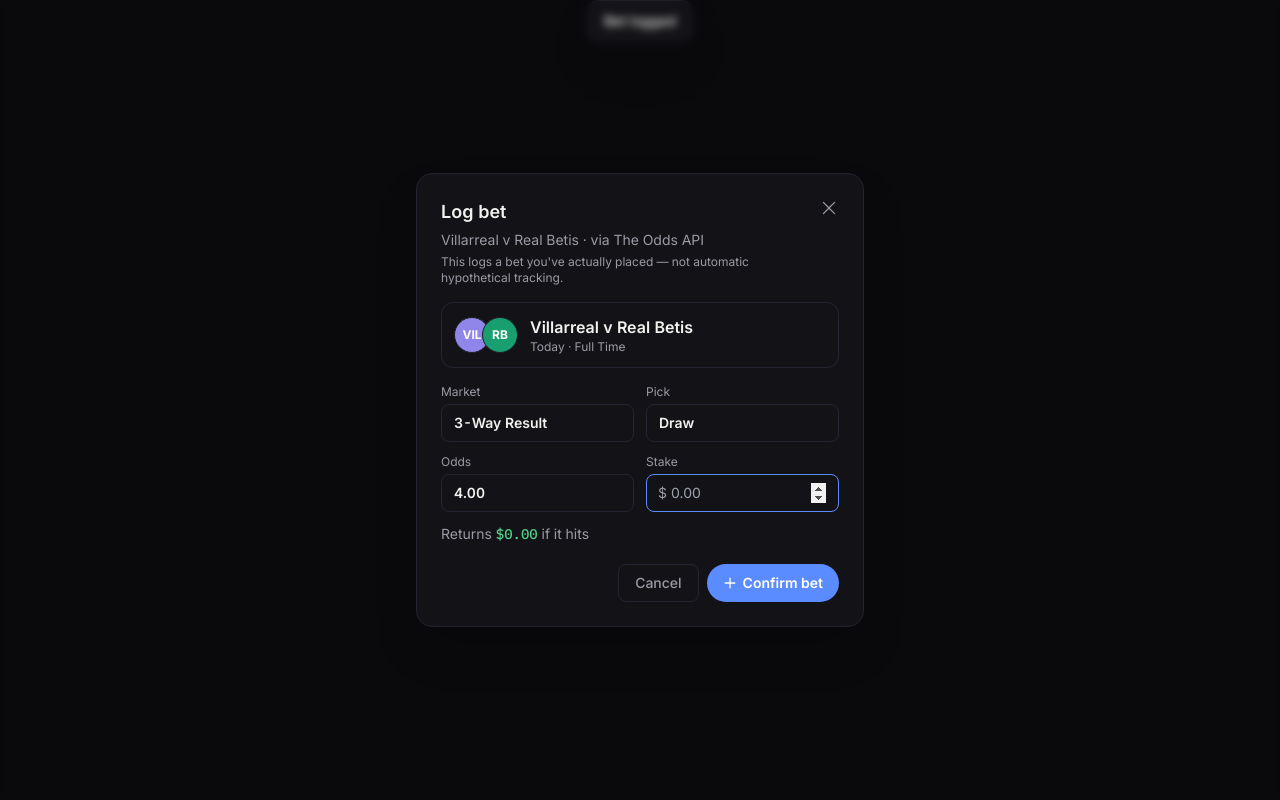
LogBetModal › locked mode: a stake-only validation error, not the editable-mode 'fill in a pick' message
This screenshot has width=1280, height=800.
Click the button "Confirm bet" at {"x": 773, "y": 583}, box top-left (707, 564), bottom-right (839, 602)
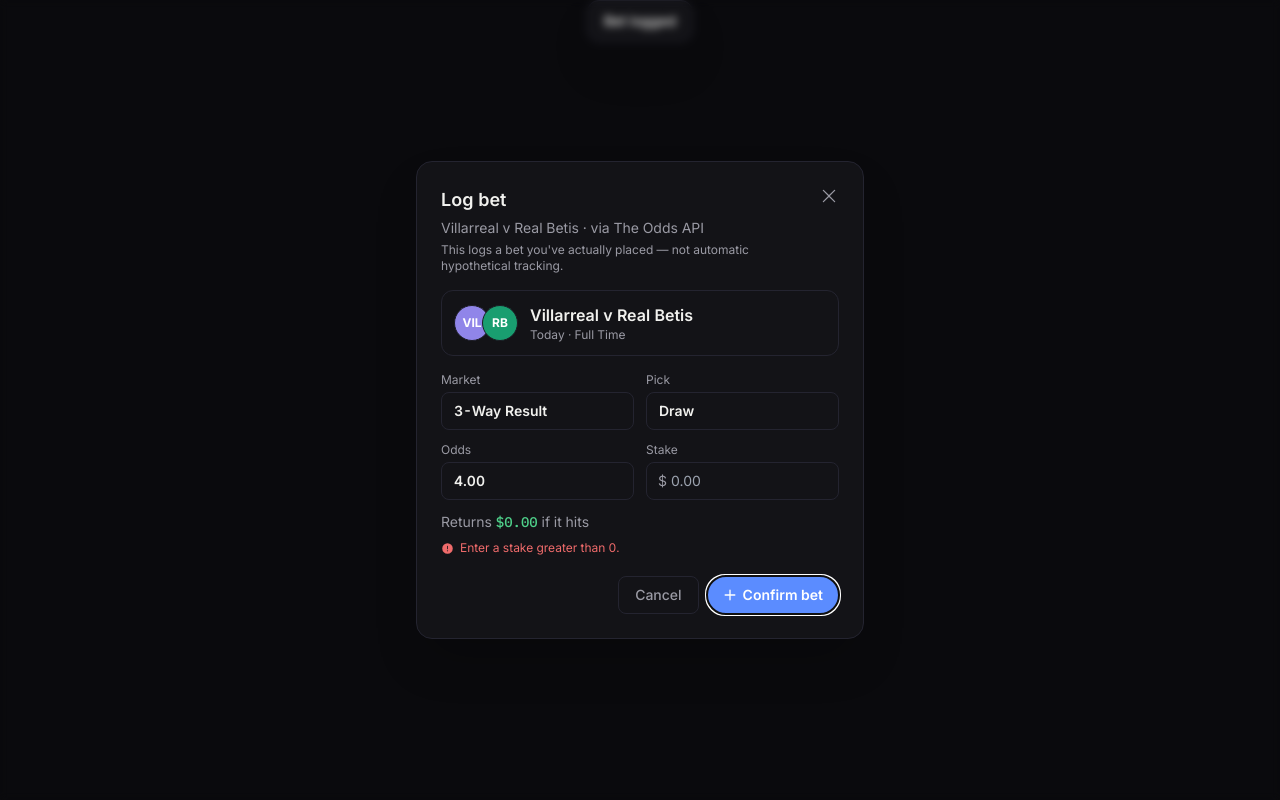
Result: the text "Enter a stake greater than 0." is shown at top-left (441, 540), bottom-right (620, 555)
